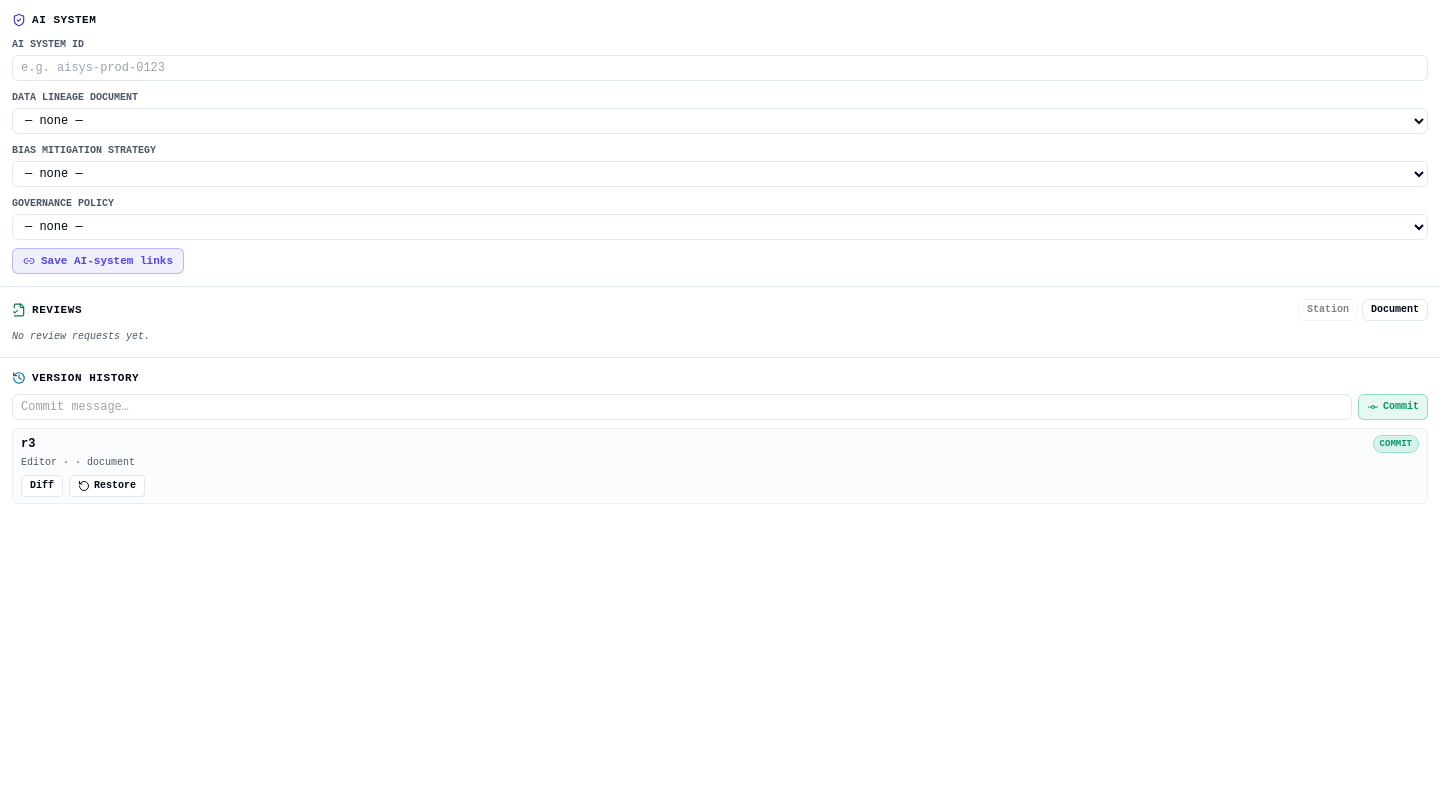
Scribe revision restore confirmation › restores the selected revision only after confirmation
Click the button "Restore". click: (107, 486)
box: [69,475,145,497]
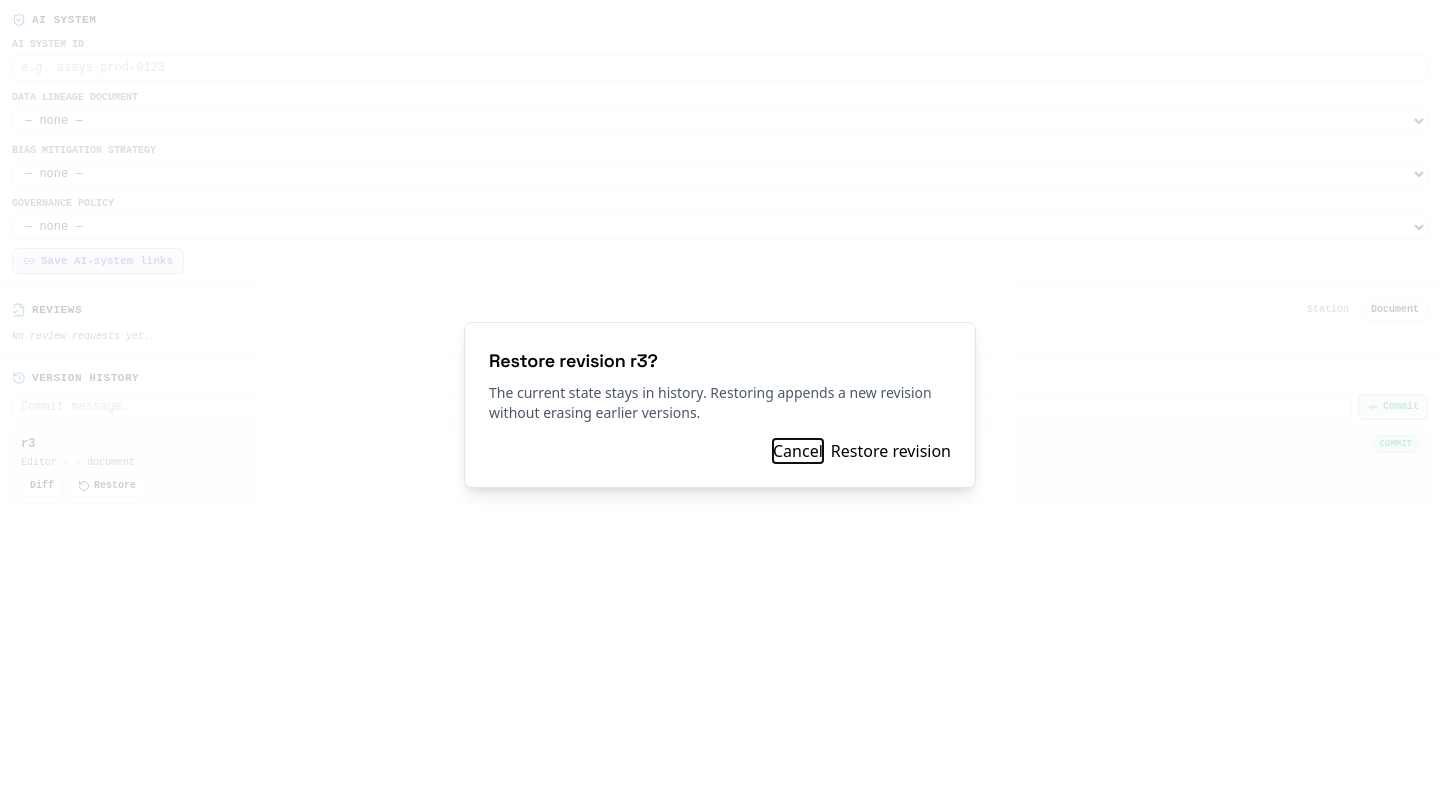
Click the button "Restore revision". click: (891, 451)
box: [831,439,951,463]
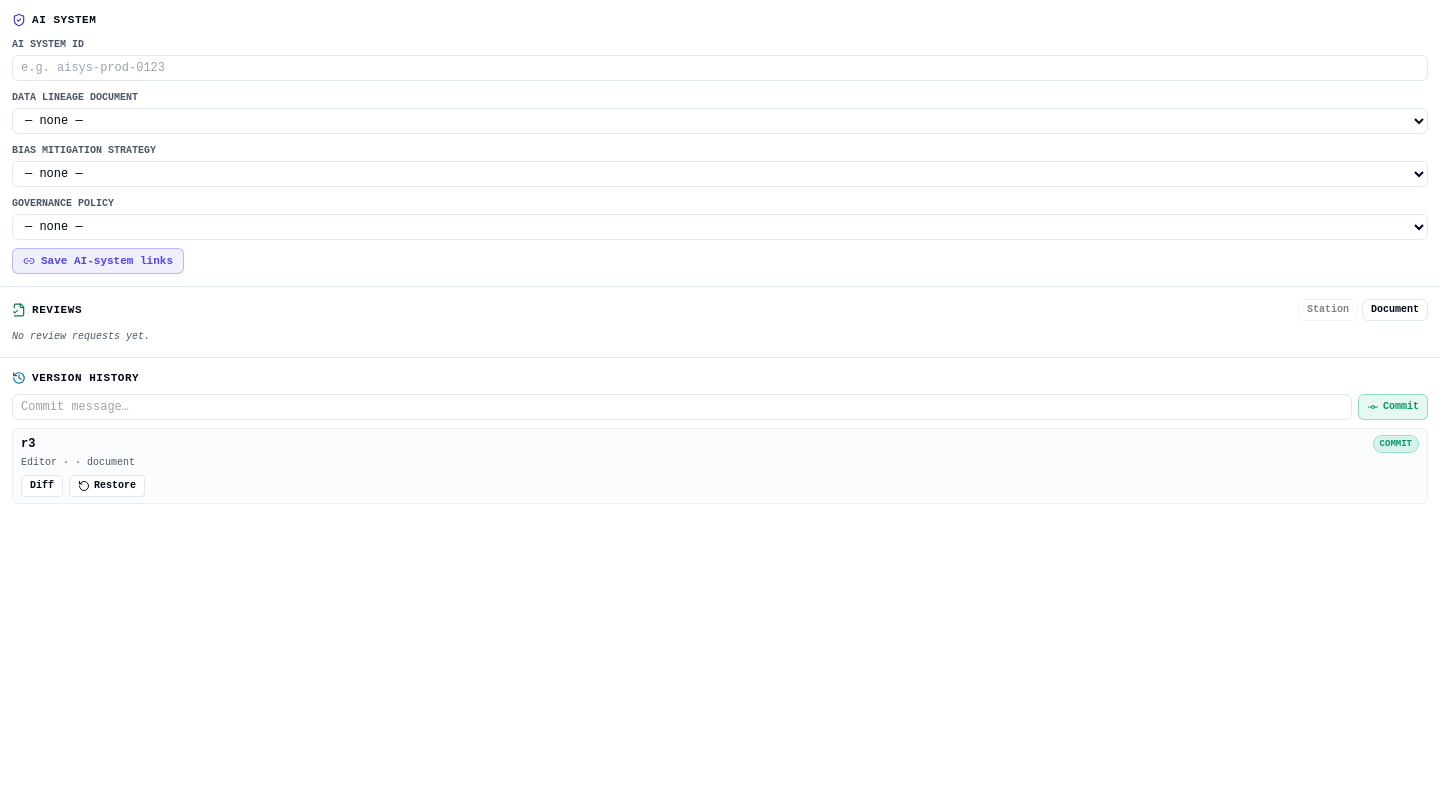
Check: the dialog is gone
